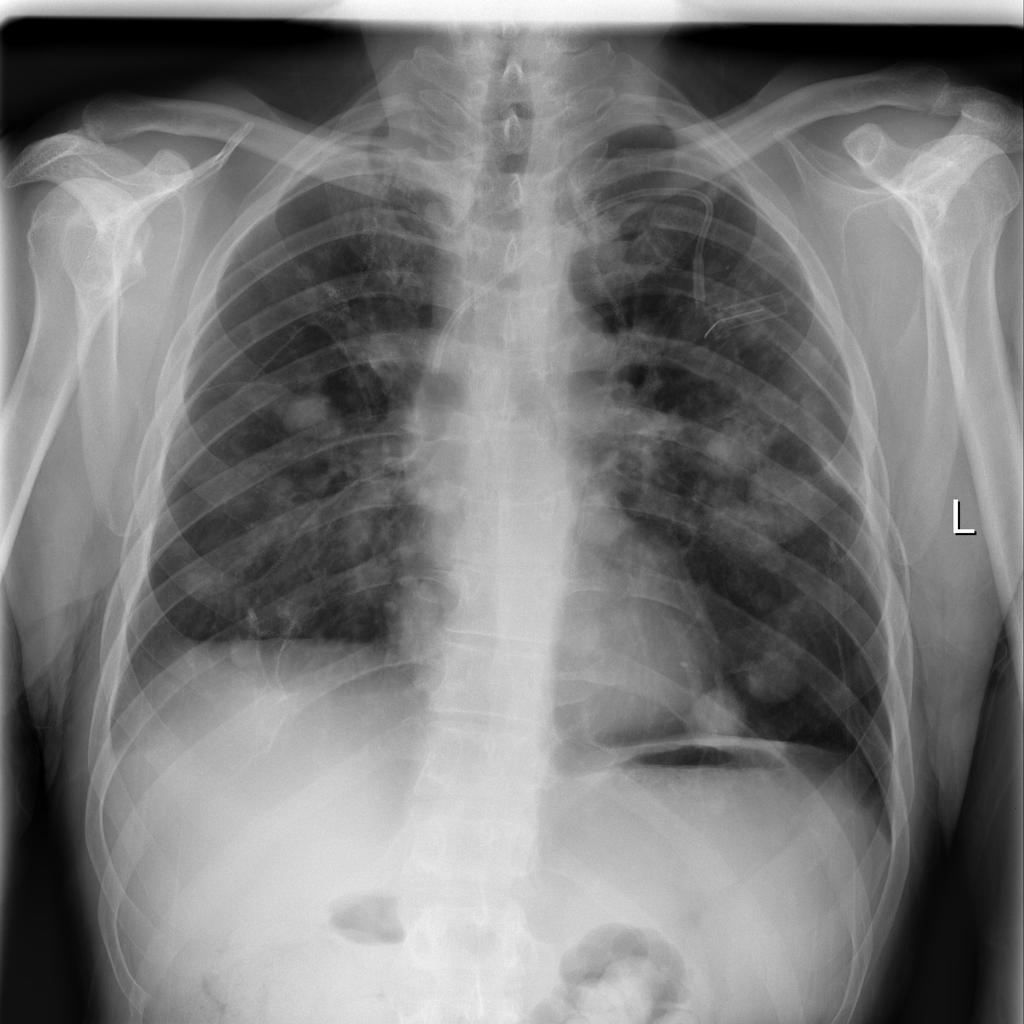nodule: (696, 449, 833, 574), (376, 567, 472, 681), (731, 631, 811, 716), (690, 402, 769, 480), (680, 676, 754, 757), (173, 549, 253, 621), (267, 382, 348, 446), (281, 247, 333, 297), (208, 480, 264, 525)
